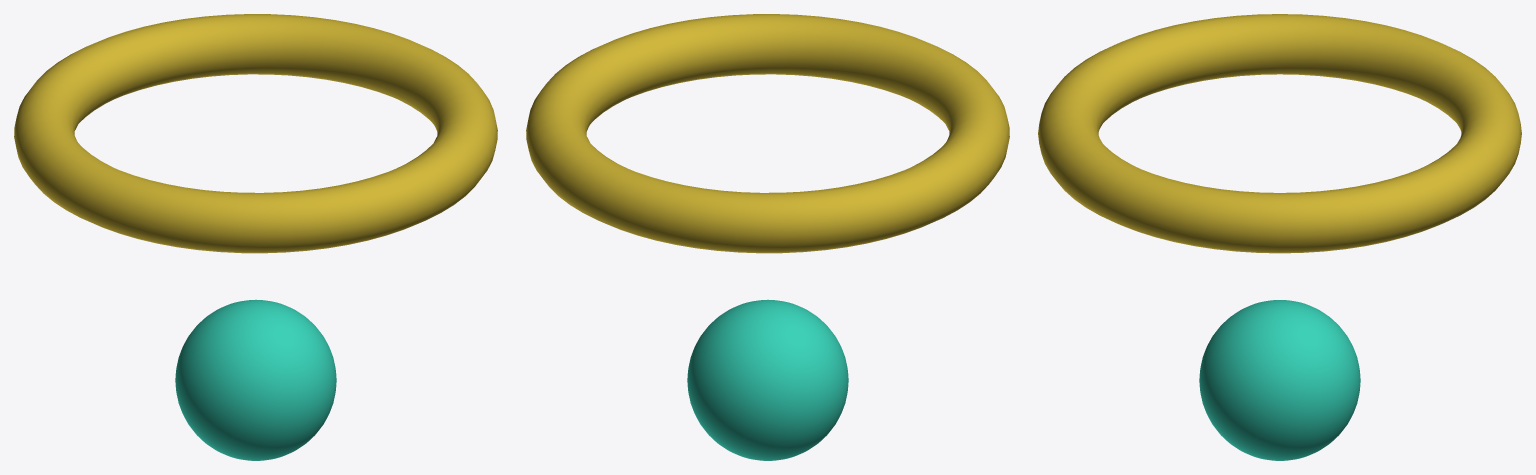
The picture shows the model from 3 angles, left to right: view 1: azimuth 30°, elevation 25°; view 2: azimuth 150°, elevation 25°; view 3: azimuth 270°, elevation 25°; orthographic projection.
Parts seen in each view (by area): view 1: Hoop, Turquoise Pendant; view 2: Hoop, Turquoise Pendant; view 3: Hoop, Turquoise Pendant.
Part boxes in pixels (left/top/right/bottom): Hoop: left=14, top=14, right=497, bottom=253; Turquoise Pendant: left=175, top=299, right=336, bottom=460; Hoop: left=526, top=14, right=1009, bottom=253; Turquoise Pendant: left=687, top=299, right=848, bottom=460; Hoop: left=1038, top=14, right=1521, bottom=253; Turquoise Pendant: left=1199, top=300, right=1360, bottom=460.
Size of the model in its own units: 0.024 by 0.019 by 0.024.
